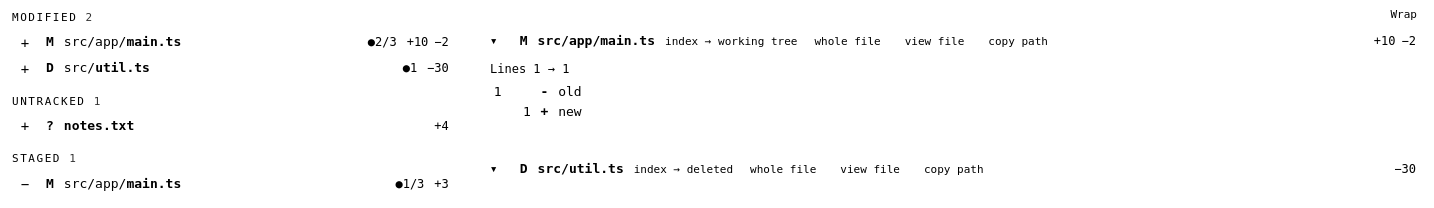
Test: stacked diffs › manual per-file collapse hides the body and toggles back
Click the button with class "collapse-btn" in the row of "index → working tree". click: (500,41)
box: [490, 32, 510, 51]
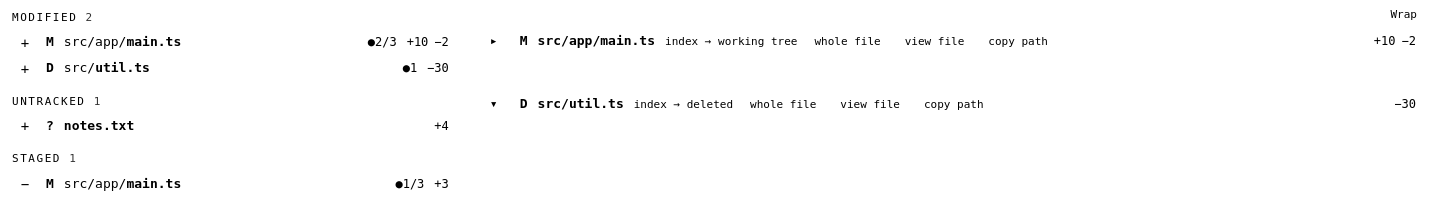
Expected: the text "Lines 1 → 1 1 - old 1 + new" is gone
Expected: the button with class "collapse-btn" is collapsed
Click the button with class "collapse-btn" showing "▸". click: (500,41)
box: [490, 32, 510, 51]
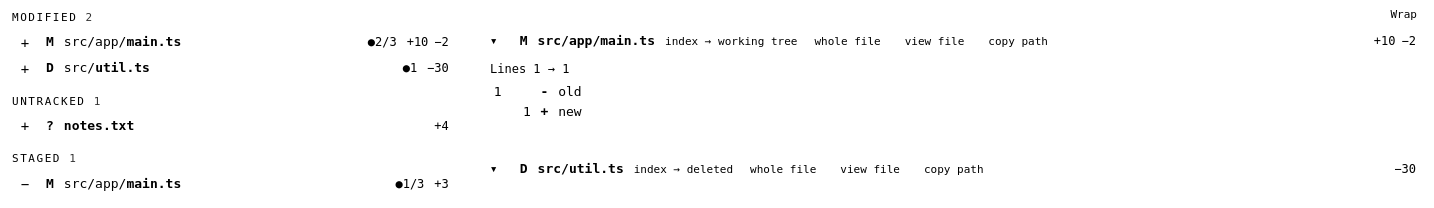
Expected: the element with class "file-diff-body" showing "Lines 1 → 1 1 - old 1 + new" is shown, [490, 62, 581, 119]
